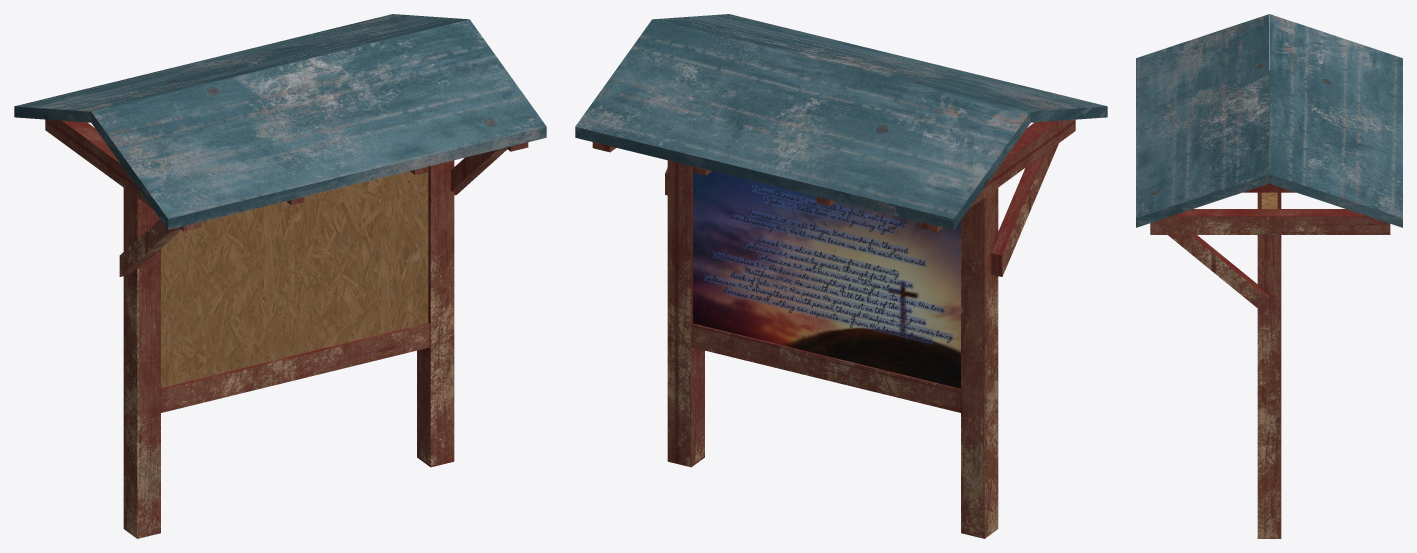
The model's file is poem.dae.
3 views of the same model, side by side, from view 1: azimuth 30°, elevation 25°; view 2: azimuth 150°, elevation 25°; view 3: azimuth 270°, elevation 25° (orthographic). The views are drawn at different scales.
Visible parts, largest first — view 1: pCube14; view 2: pCube14, cross_message; view 3: pCube14.
Boxes of the visible parts, x1,y1,x2,y2 form: pCube14: [14, 14, 546, 538]; pCube14: [575, 14, 1107, 538]; cross_message: [693, 171, 960, 388]; pCube14: [1136, 14, 1402, 538].
Bounding box in the file's own units: 18.37 × 12.94 × 20.02.
7 materials, 7 textured.
